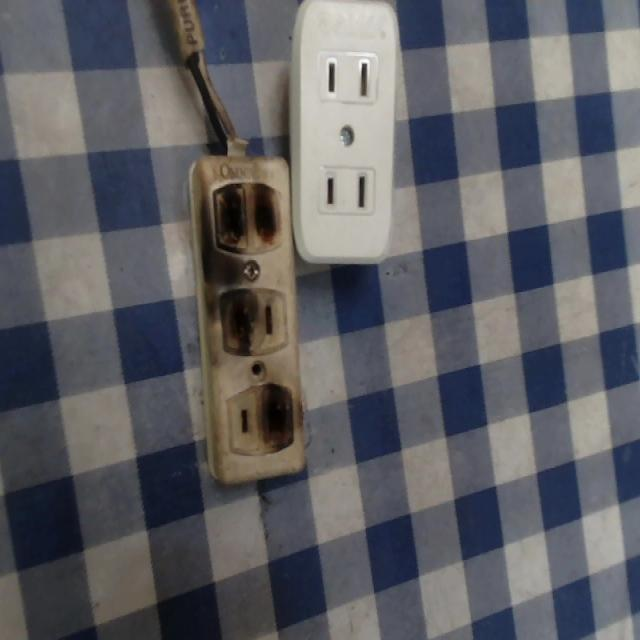-: (205, 176, 290, 255), (212, 283, 262, 356), (257, 377, 296, 451)
